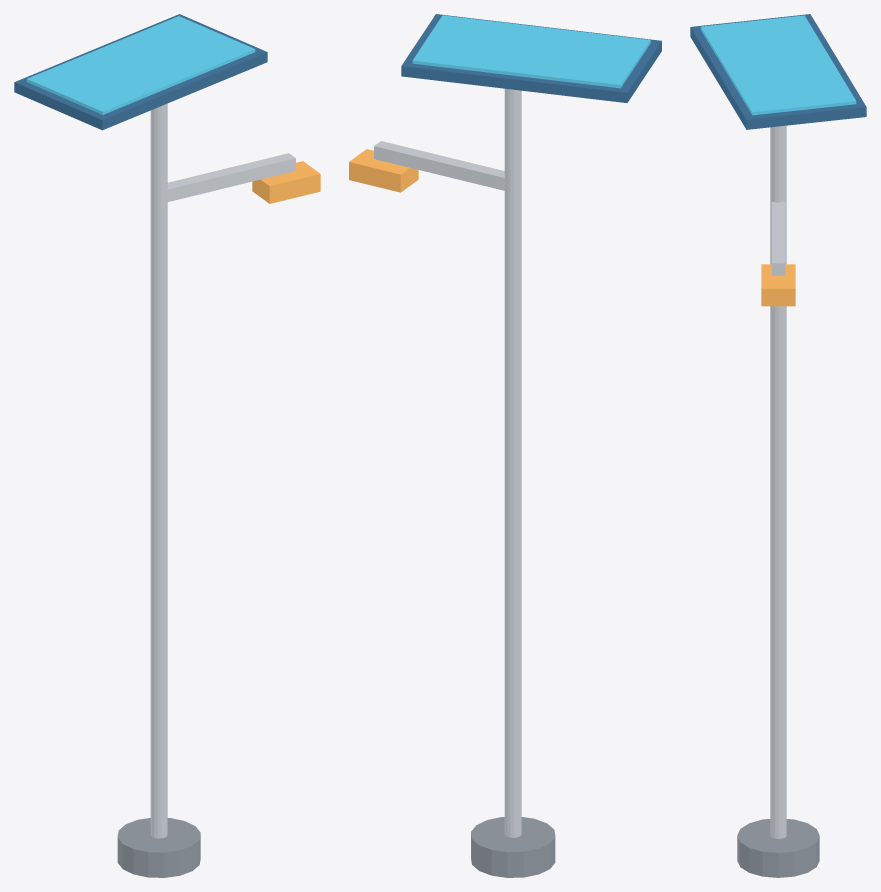
File: den-solar-6m.gltf
3 views of the same model, side by side, from view 1: azimuth 30°, elevation 25°; view 2: azimuth 150°, elevation 25°; view 3: azimuth 270°, elevation 25° (orthographic). The views are drawn at different scales.
Parts seen in each view (by area): view 1: pole, panelGrid, solarPanel, base, arm, lampHead; view 2: pole, panelGrid, solarPanel, base, arm, lampHead; view 3: pole, panelGrid, base, solarPanel, lampHead, arm.
Boxes of the visible parts, x1,y1,x2,y2 form: pole: (150,103,167,838); panelGrid: (26,16,255,114); solarPanel: (14,14,267,130); base: (117,818,200,877); arm: (166,153,295,202); lampHead: (252,161,320,203); pole: (504,88,521,837); panelGrid: (412,15,650,88); solarPanel: (401,14,661,102); base: (471,817,555,877); arm: (374,141,505,190); lampHead: (349,149,418,192); pole: (770,125,786,838); panelGrid: (700,15,856,115); base: (737,819,819,877); solarPanel: (690,14,866,129); lampHead: (761,264,795,306); arm: (771,201,785,275).
Bounding box in the file's own units: 2.32 × 6.32 × 1.28.
